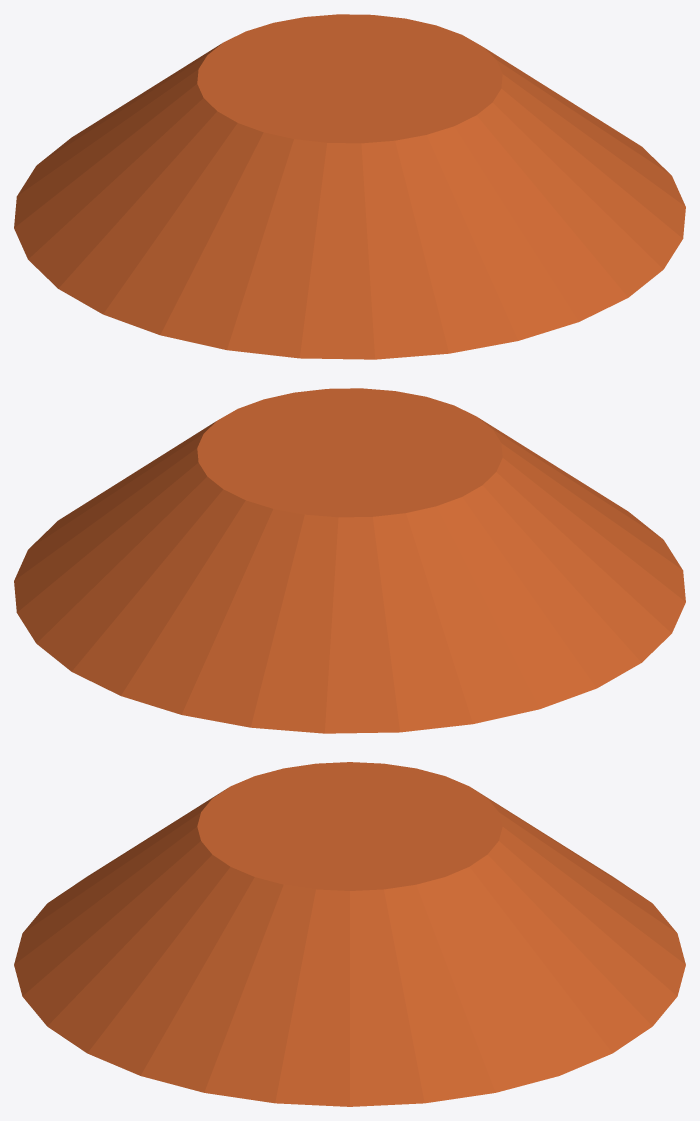
File: TowerRoof_RoofOrange.fbx
The picture shows the model from 3 angles, top to bottom: view 1: azimuth 30°, elevation 25°; view 2: azimuth 150°, elevation 25°; view 3: azimuth 270°, elevation 25°; orthographic projection.
Parts seen in each view (by area): view 1: TowerTop.001; view 2: TowerTop.001; view 3: TowerTop.001.
Boxes of the visible parts, bbox=[...] form: TowerTop.001: bbox=[14, 14, 685, 359]; TowerTop.001: bbox=[14, 388, 685, 733]; TowerTop.001: bbox=[14, 762, 685, 1106].
Bounding box in the file's own units: 1100 × 250 × 1100.
